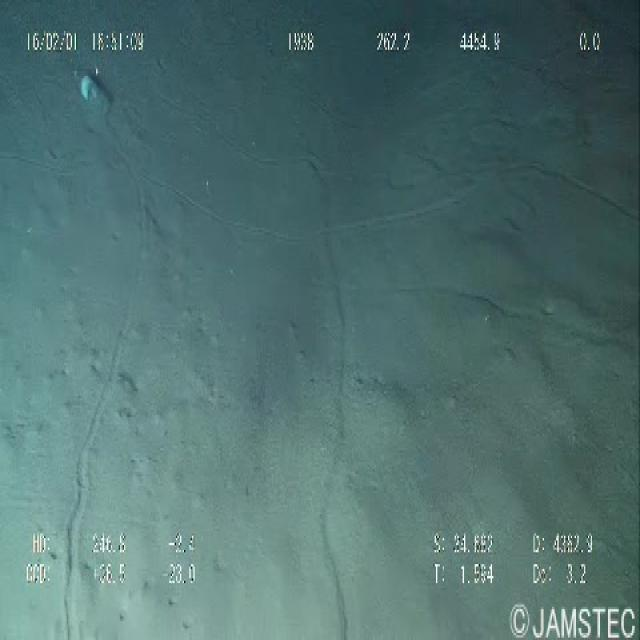plastic: (65, 57, 128, 123)
